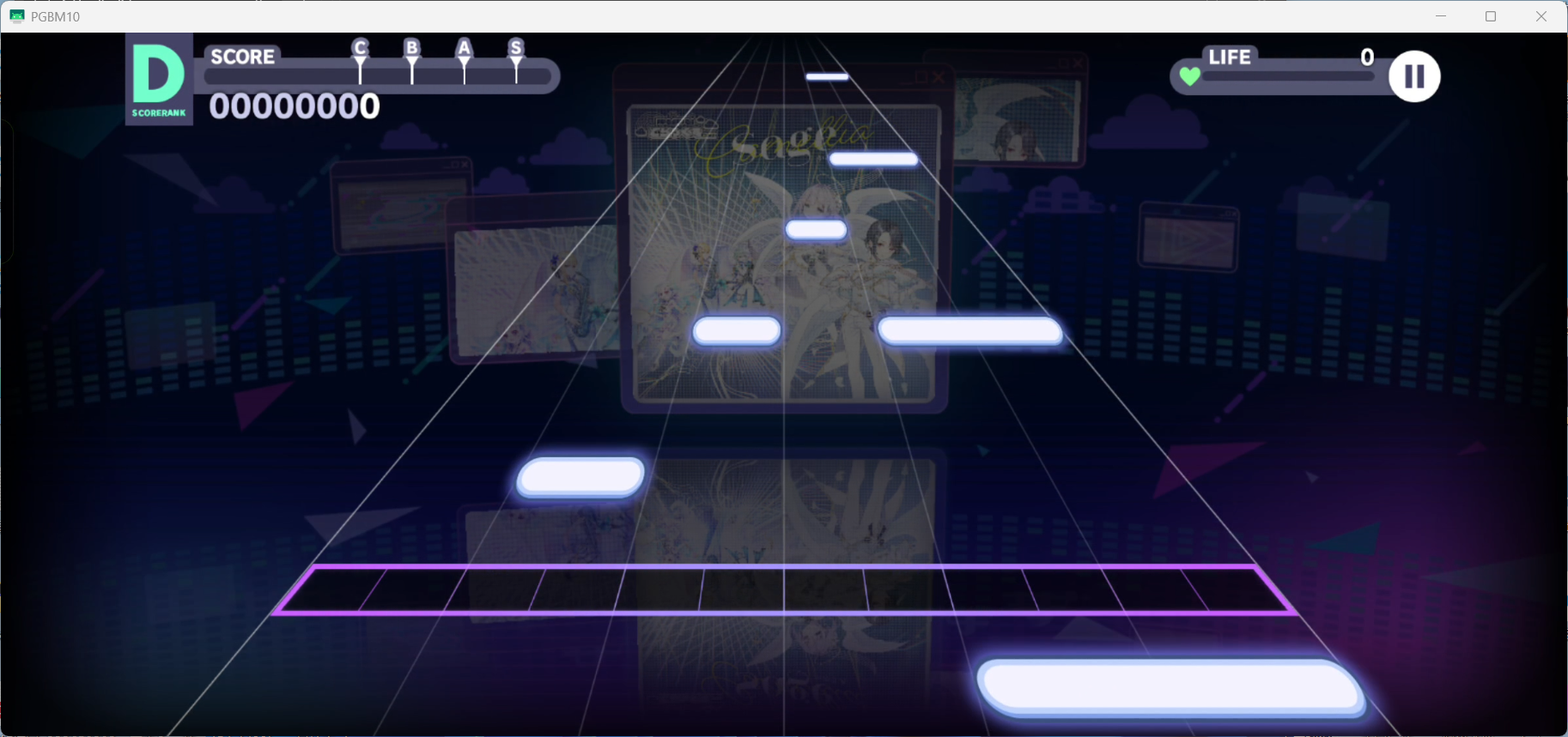tap: (977, 660, 1366, 719), (876, 316, 1065, 345), (517, 458, 645, 496), (690, 317, 781, 345), (785, 220, 847, 239), (830, 153, 918, 166), (806, 72, 849, 81)
